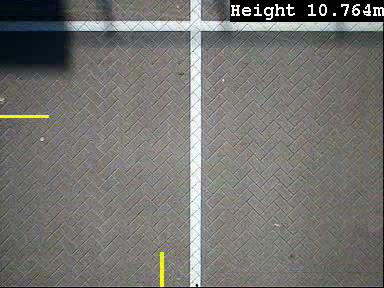groundmarker_2: (199, 58, 249, 129), (201, 241, 237, 288)
